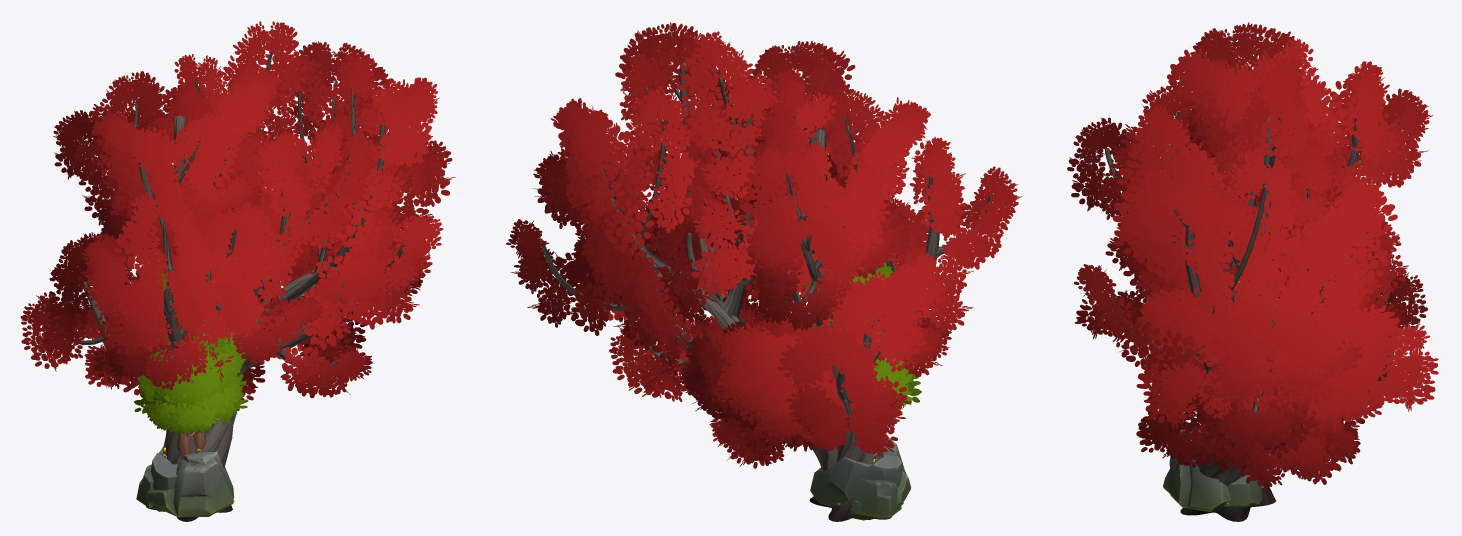
The model's file is natureza.glb.
3 views of the same model, side by side, from view 1: azimuth 30°, elevation 25°; view 2: azimuth 150°, elevation 25°; view 3: azimuth 270°, elevation 25° (orthographic). The views are drawn at different scales.
Parts seen in each view (by area): view 1: TwistedTree_3, TwistedTree_1, Rock_Medium_1, CommonTree_2, CommonTree_1, CommonTree_3, Rock_Medium_2, CommonTree_5; view 2: TwistedTree_1, TwistedTree_3, Rock_Medium_2, Rock_Medium_1, CommonTree_2; view 3: TwistedTree_1, TwistedTree_3, Rock_Medium_1, Rock_Medium_2.
Part boxes in pixels (x1,y1,x2,y2): TwistedTree_3: (20,54,377,477); TwistedTree_1: (106,21,455,521); Rock_Medium_1: (144,450,234,517); CommonTree_2: (136,331,246,450); CommonTree_1: (134,335,248,434); CommonTree_3: (141,275,245,450); Rock_Medium_2: (136,446,207,511); CommonTree_5: (141,352,237,432); TwistedTree_1: (506,22,927,521); TwistedTree_3: (677,40,1022,480); Rock_Medium_2: (810,454,903,517); Rock_Medium_1: (850,434,911,520); CommonTree_2: (812,324,920,409); TwistedTree_1: (1074,56,1438,521); TwistedTree_3: (1067,22,1433,478); Rock_Medium_1: (1163,440,1230,511); Rock_Medium_2: (1189,465,1262,507).
Bounding box in the file's own units: 15.83 × 16.83 × 11.71.
31 materials, 31 textured.
